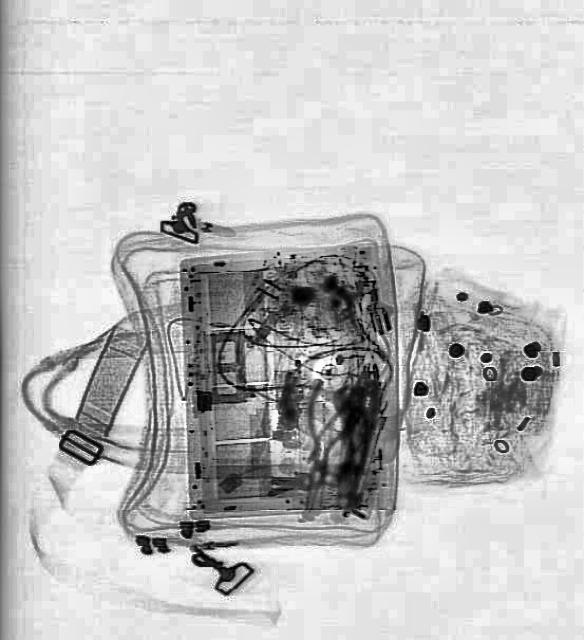Pliers: (287, 376, 365, 492), (295, 376, 345, 466)
